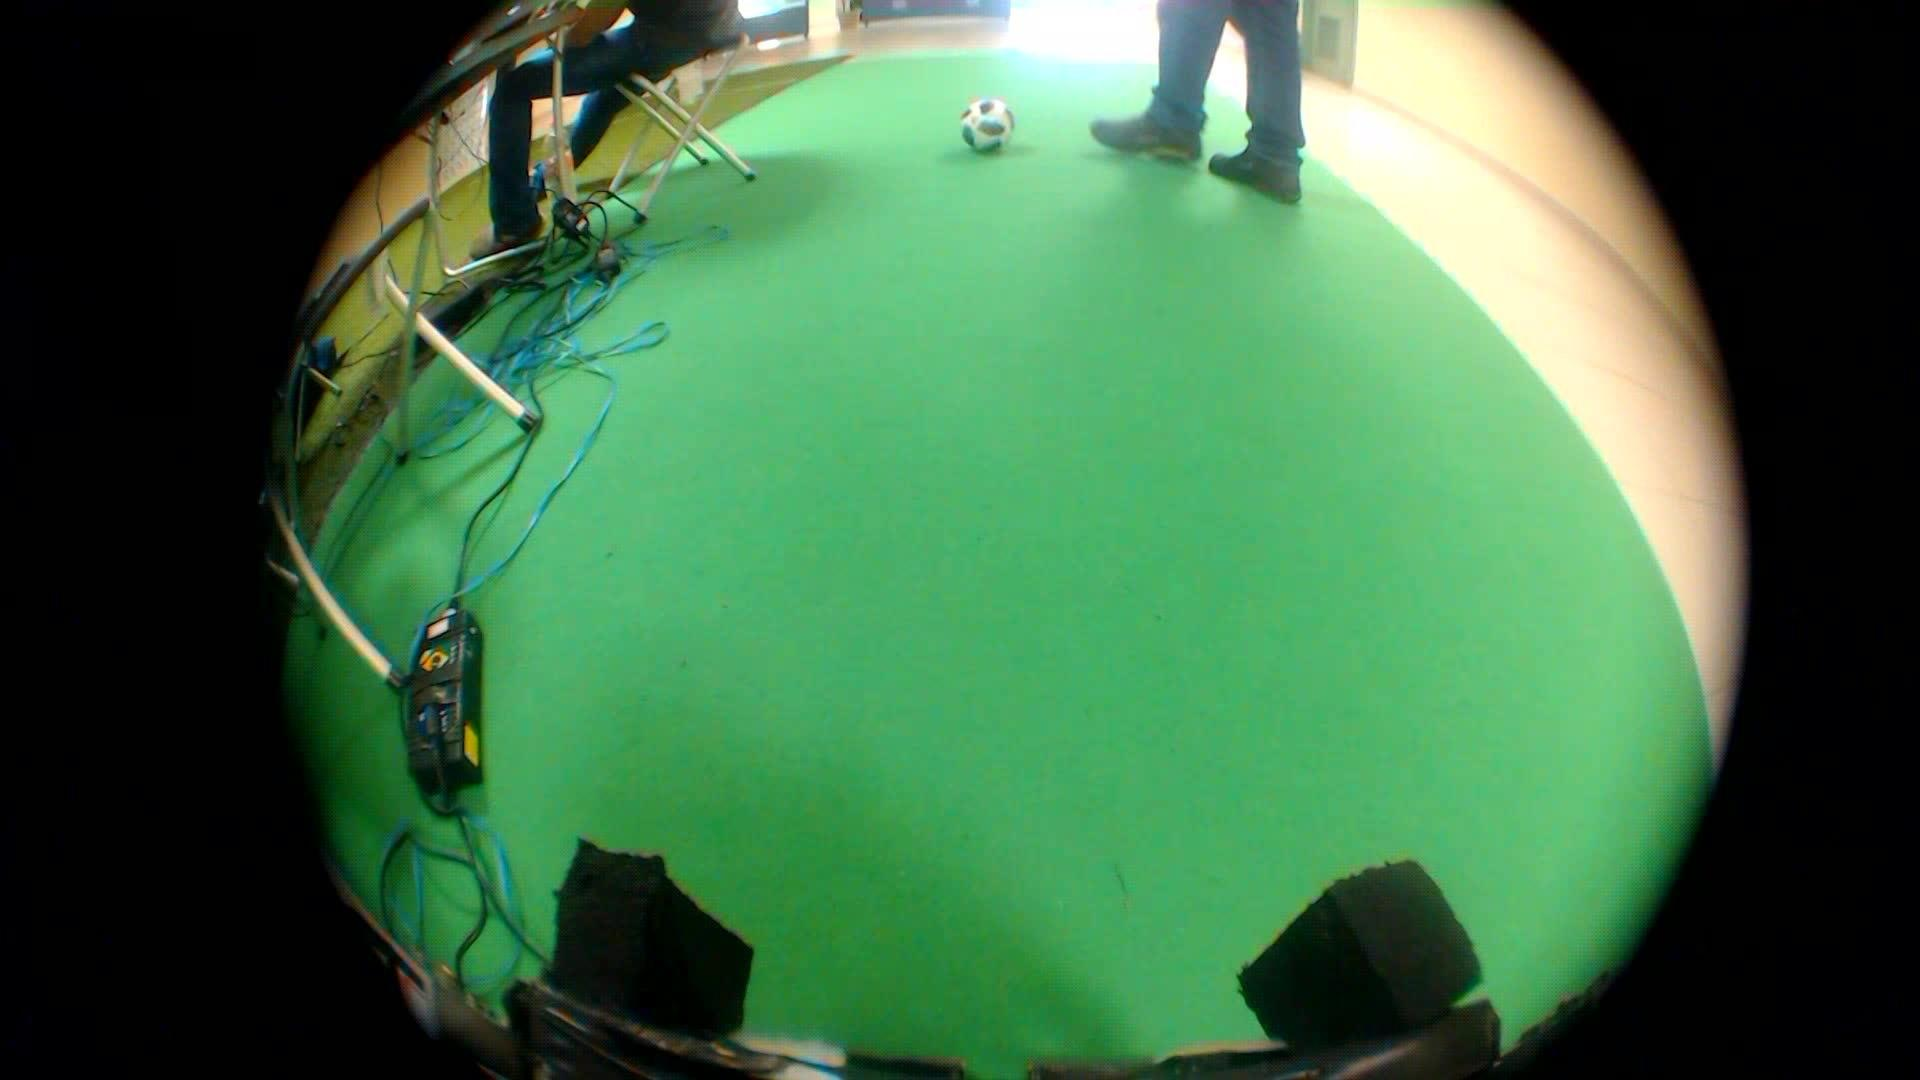ball: (945, 80, 1019, 164)
